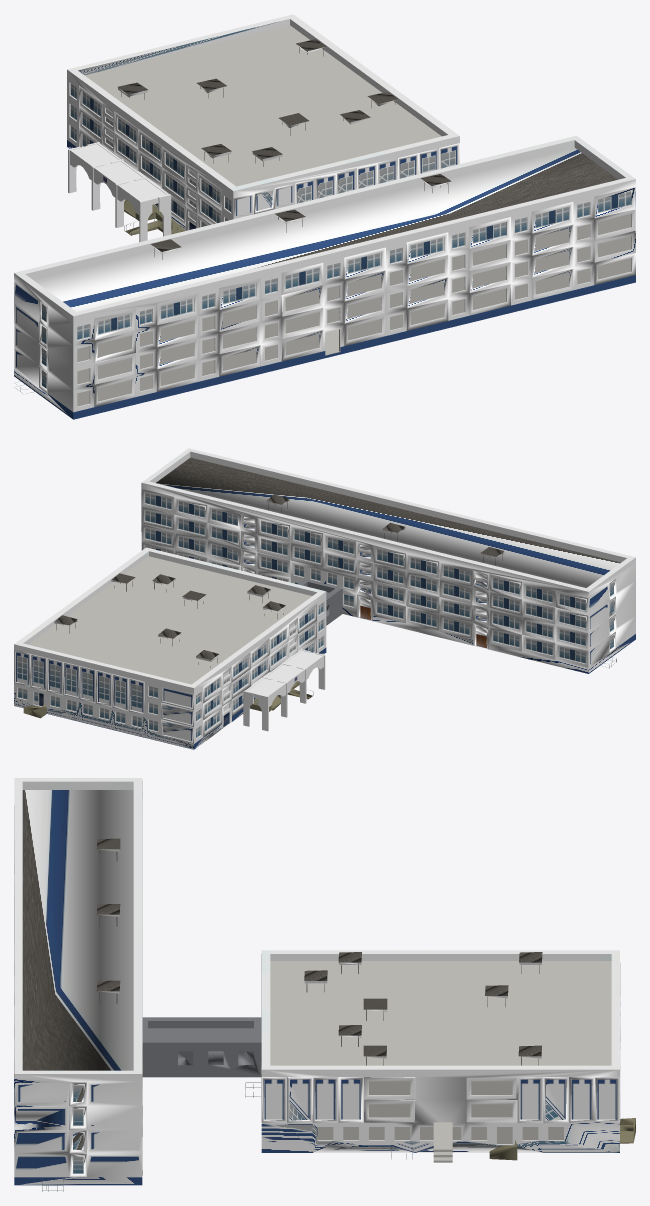
Rendered from school.zfix-v1.lod0.glb.
3 views of the same model, one above another, from view 1: azimuth 30°, elevation 25°; view 2: azimuth 150°, elevation 25°; view 3: azimuth 270°, elevation 25° (orthographic). The views are drawn at different scales.
Visible parts, largest first — view 1: Object_4, Object_3, Object_7, Object_10, Object_9; view 2: Object_4, Object_7, Object_3, Object_10, Object_9; view 3: Object_4, Object_3, Object_7, Object_9.
Part boxes in pixels (x1=…): Object_4: x1=14, y1=135, x2=635, y2=419; Object_3: x1=77, y1=25, x2=631, y2=406; Object_7: x1=67, y1=14, x2=459, y2=230; Object_10: x1=68, y1=142, x2=171, y2=242; Object_9: x1=118, y1=39, x2=451, y2=259; Object_4: x1=141, y1=448, x2=635, y2=673; Object_7: x1=14, y1=547, x2=326, y2=749; Object_3: x1=23, y1=500, x2=504, y2=718; Object_10: x1=243, y1=649, x2=325, y2=731; Object_9: x1=55, y1=494, x2=503, y2=667; Object_4: x1=14, y1=778, x2=142, y2=1185; Object_3: x1=99, y1=849, x2=635, y2=1162; Object_7: x1=261, y1=950, x2=620, y2=1152; Object_9: x1=96, y1=838, x2=542, y2=1065.
Bounding box in the file's own units: 61.91 × 10.99 × 52.63.
Materials: 6 (4 with a texture image).
